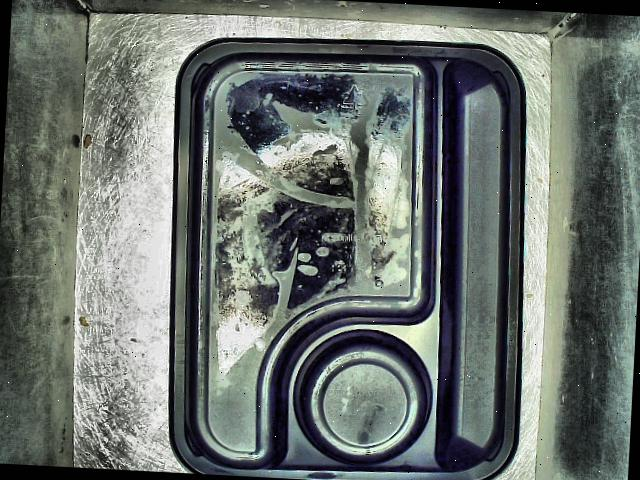Plastic: (154, 16, 540, 480)
